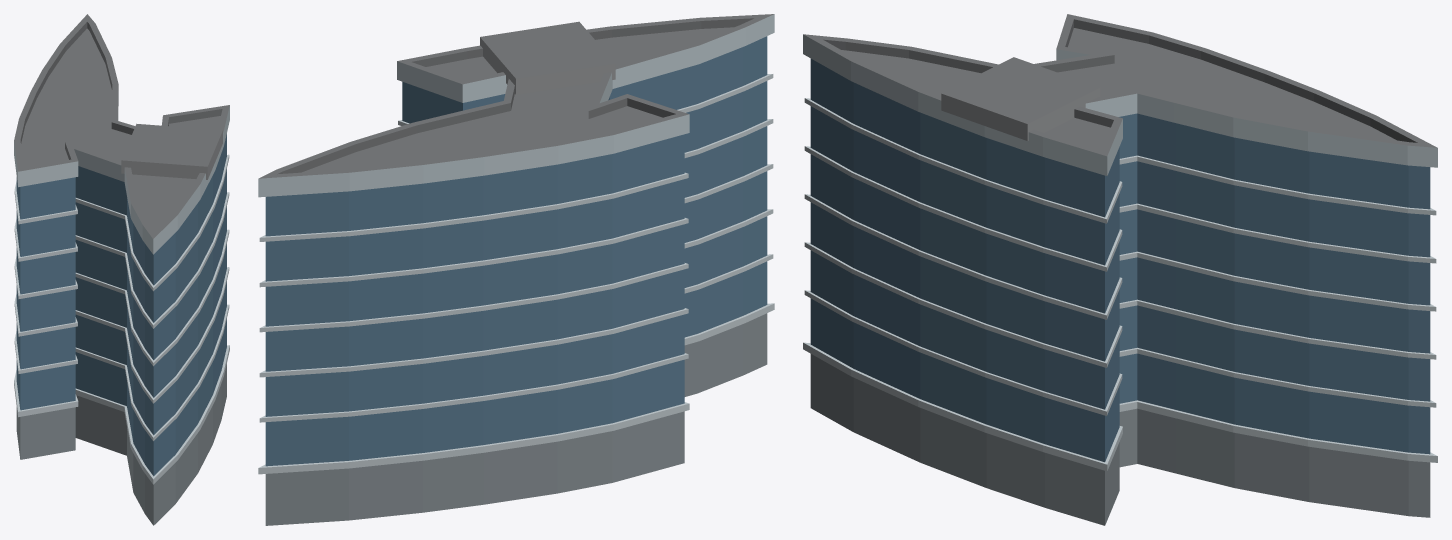
The model's file is bldg_w134930089.glb.
3 views of the same model, side by side, from view 1: azimuth 30°, elevation 25°; view 2: azimuth 150°, elevation 25°; view 3: azimuth 270°, elevation 25° (orthographic). The views are drawn at different scales.
Visible parts, largest first — view 1: Wing_w134930089; view 2: Wing_w134930089; view 3: Wing_w134930089.
Boxes of the visible parts, x1=… form: Wing_w134930089: x1=14, y1=14, x2=229, y2=525; Wing_w134930089: x1=258, y1=14, x2=774, y2=525; Wing_w134930089: x1=803, y1=14, x2=1437, y2=525.
Bounding box in the file's own units: 53.79 × 67 × 101.
